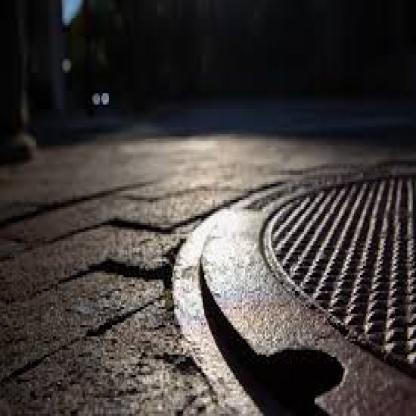open manhole-not overflowing-: (174, 159, 416, 416)
